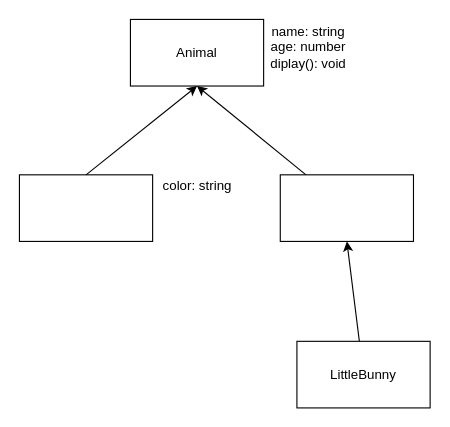
Some shapes in this 450 by 427 pixel diagram are drawn without their labels. The shapes that lost their labels are listed below. From the top down, each one's centre as x and y in pixels, then its label:
At point (85, 207): "Dog".
At point (346, 207): "Bunny".
